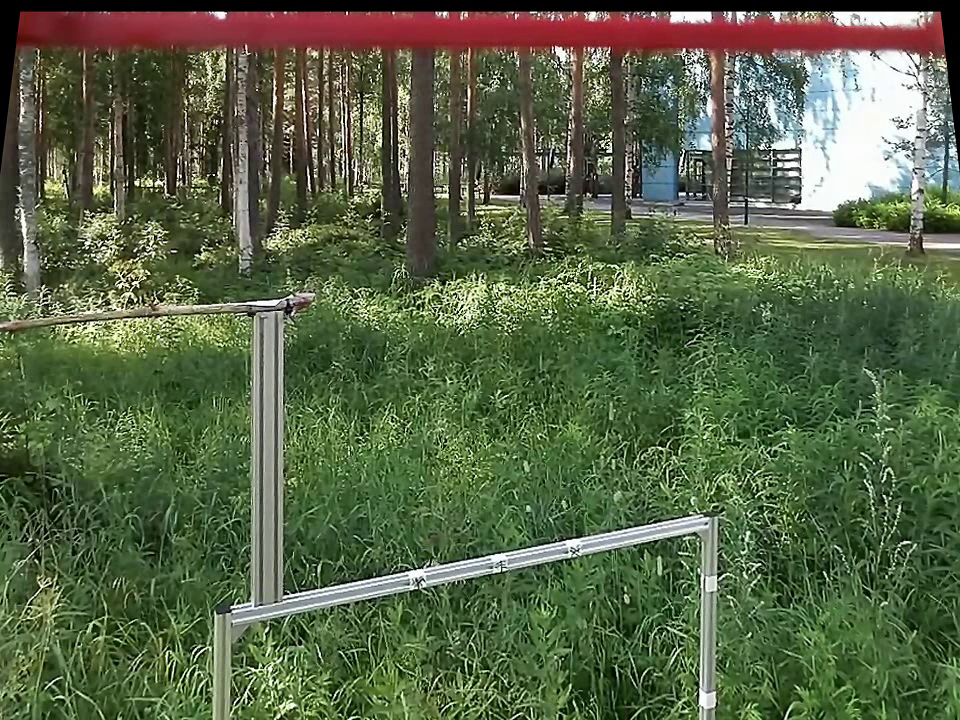aluminum_frame: (234, 508, 711, 634), (248, 316, 286, 597), (693, 508, 722, 714), (206, 605, 235, 717)
branch: (2, 292, 248, 340)
